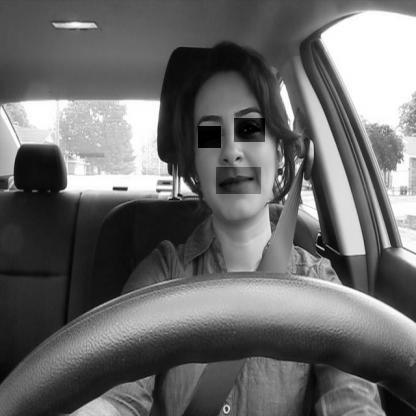seatbelt: (173, 29, 301, 416)
